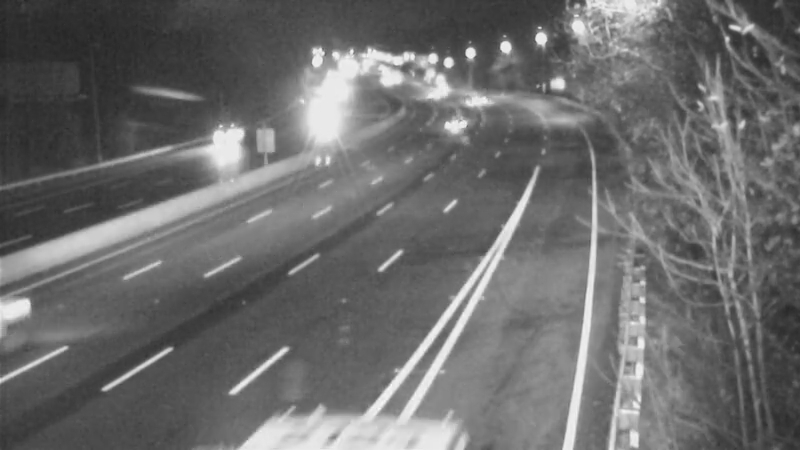vehicle: (420, 66, 470, 116), (409, 73, 459, 123), (444, 75, 494, 125), (428, 100, 478, 150), (194, 115, 244, 165), (305, 96, 355, 146)
